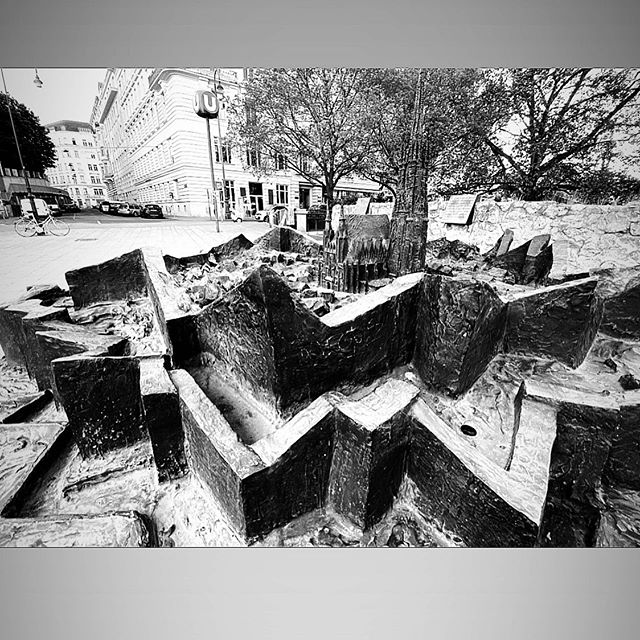bicicle: (12, 210, 75, 234)
building: (89, 66, 326, 223)
tree: (234, 69, 410, 214), (464, 64, 640, 209)
